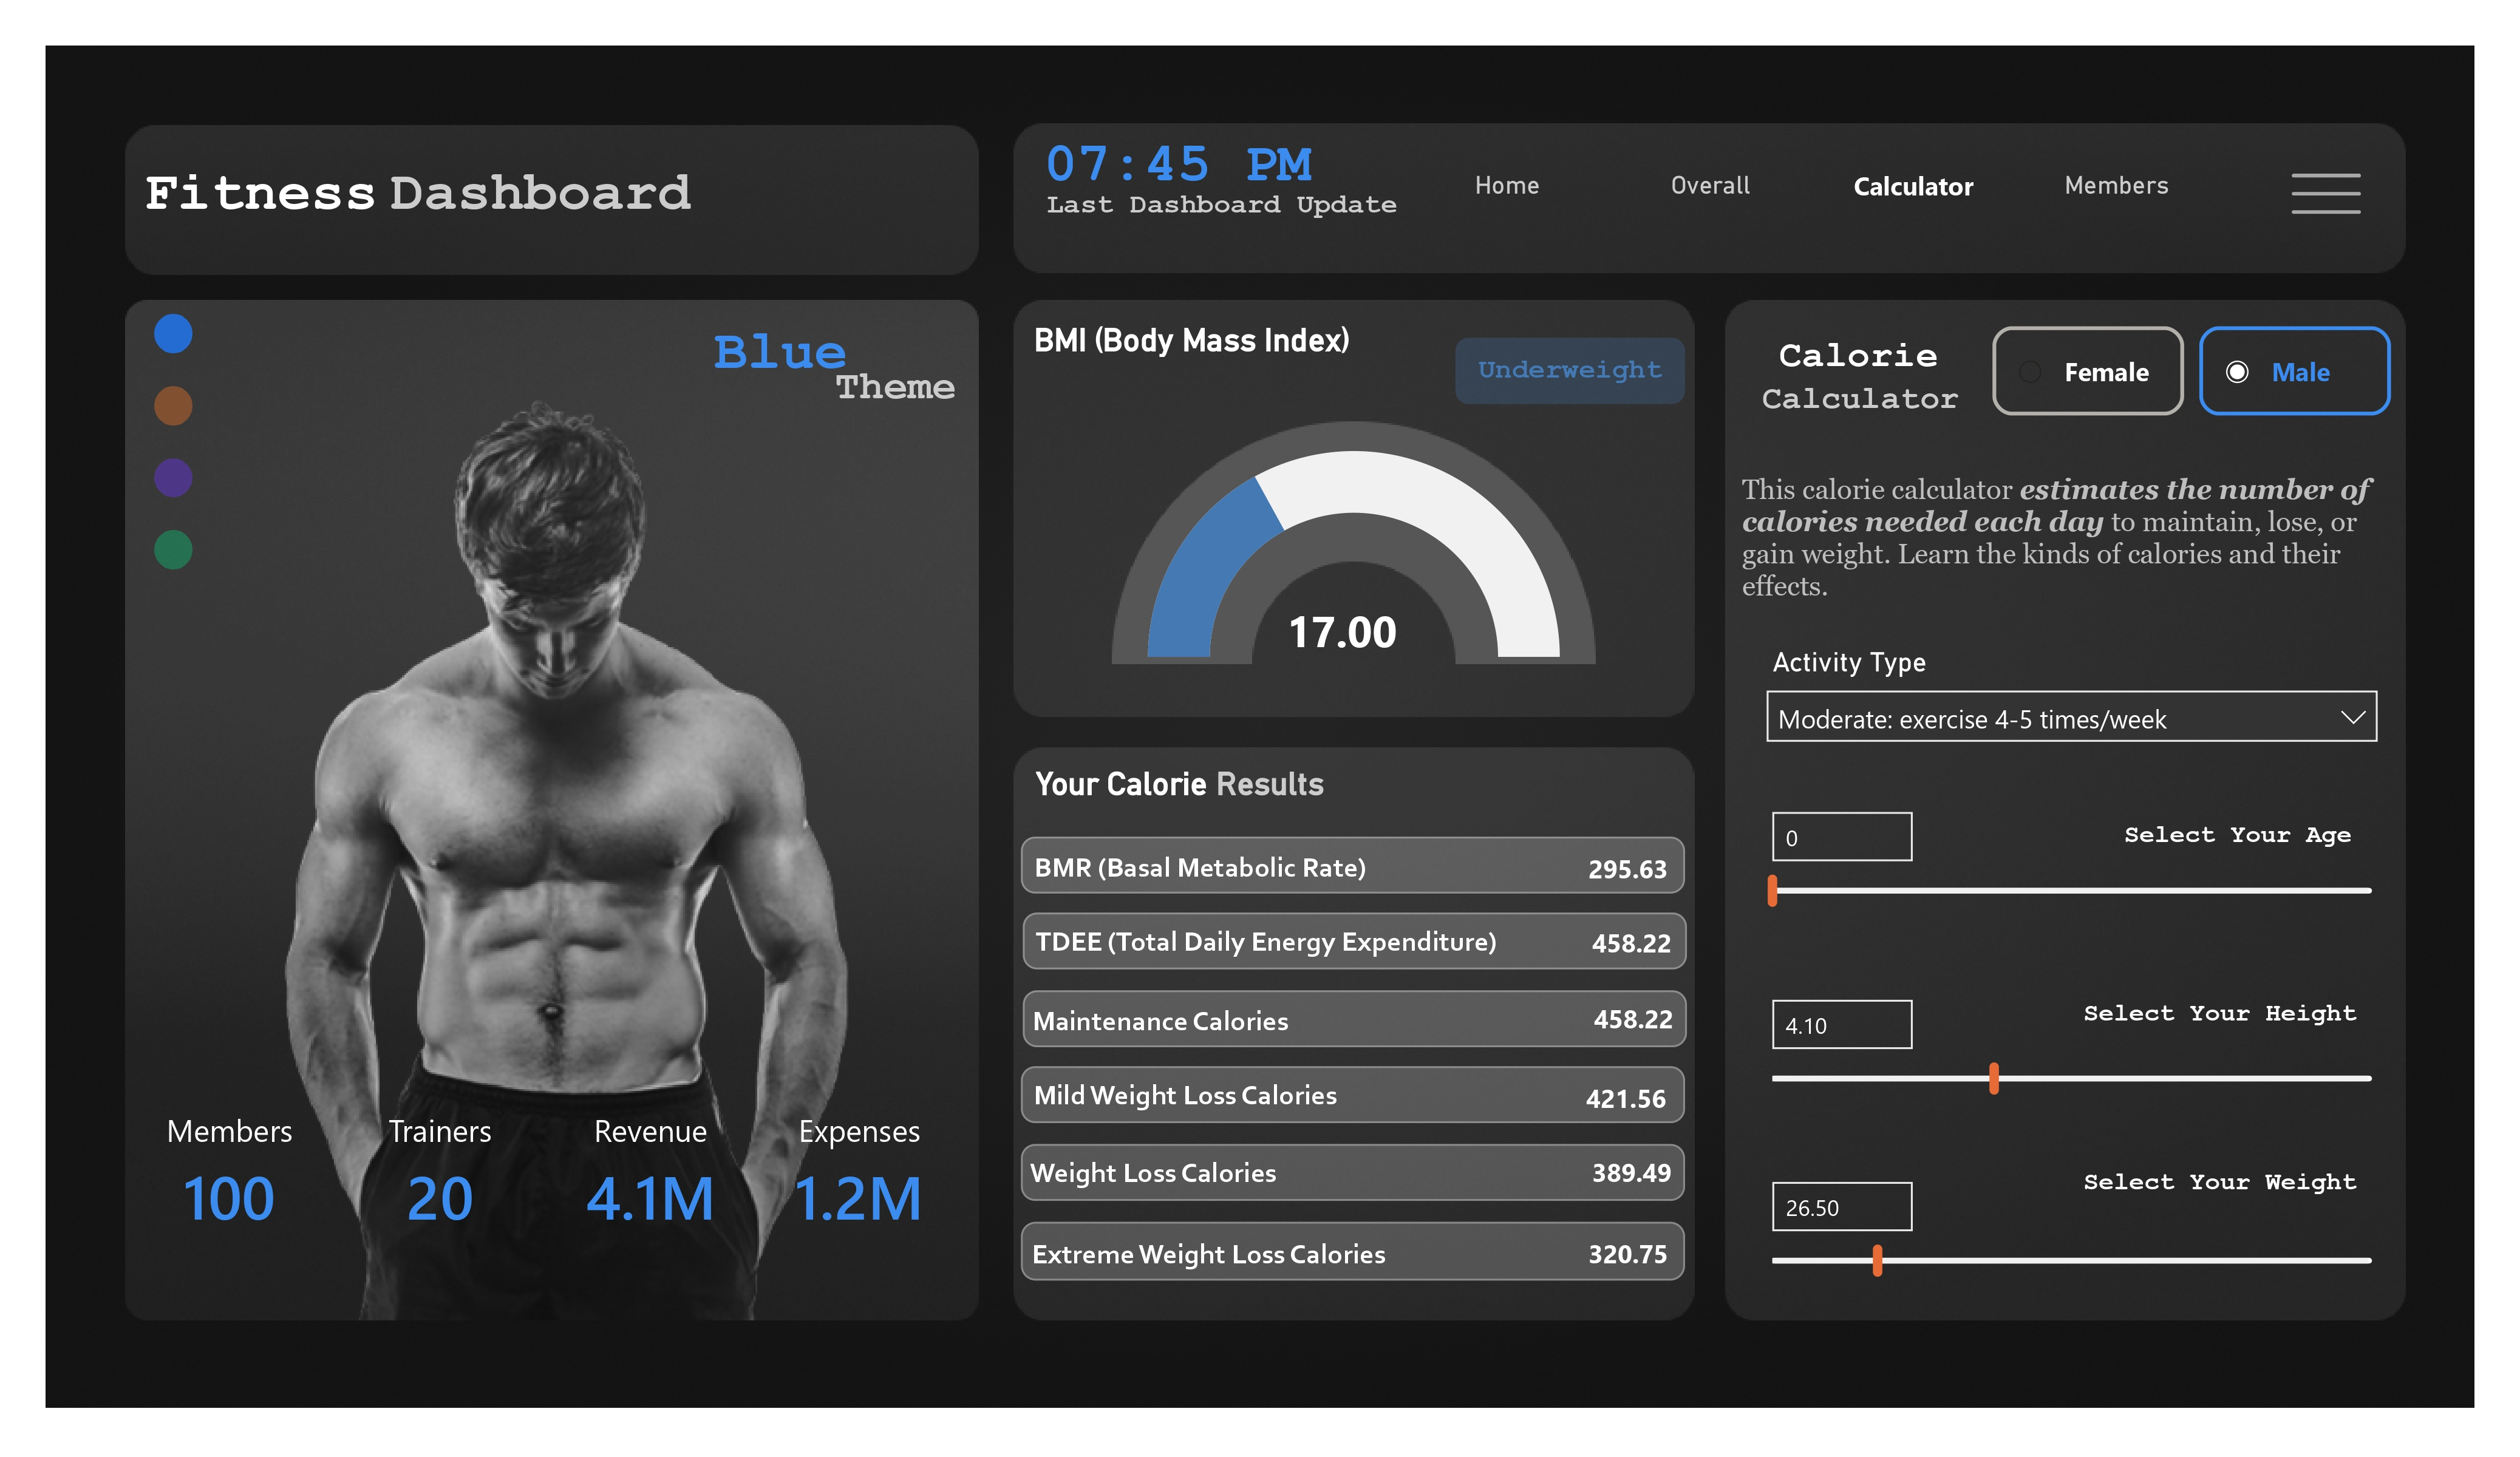

This screenshot's page, from the dashboard's own definition file:
{"tool":"powerbi","page":{"name":"Calculator","canvas":[1280,720],"ordinal":2},"visuals":[{"type":"slicer","fields":{"Values":["Age_Slider.Age_Slider"]},"box":[897.1,394.5,342,90.7],"z":0},{"type":"slicer","fields":{"Values":["Height_Slider.Height_Slider"]},"box":[897.1,493.1,342,90.7],"z":1000},{"type":"slicer","fields":{"Values":["Weight_Slider.Weight_Slider"]},"box":[897.1,589.1,342,90],"z":2000},{"type":"slicer","fields":{"Values":["Slider_Activity.Category"]},"box":[897.1,311.8,342,82.7],"z":3000},{"type":"advancedSlicerVisual","fields":{"Values":["Slider_Gender.Gender"]},"box":[1021.2,143.2,221.1,57.3],"z":4000},{"type":"shape","box":[46.1,60,135.2,35],"z":5000},{"type":"shape","box":[176.5,60,168.6,35],"z":6000},{"type":"shape","box":[888.1,146.5,135.2,35],"z":7000},{"type":"shape","box":[872.1,168.7,168.6,35],"z":8000},{"type":"textbox","box":[889.2,219.5,356.3,90.7],"z":9000},{"type":"gauge","fields":{"Y":["_Measures.BMI"]},"box":[575.8,198.8,227.5,138.4],"z":10000},{"type":"cardVisual","fields":{"Data":["_Measures.BMI"]},"box":[625.1,268.8,135.2,74.8],"z":11000},{"type":"shape","box":[1088,399.2,135.2,35],"z":12000},{"type":"shape","box":[1068.9,493.1,154.3,35],"z":13000},{"type":"shape","box":[1068.9,583.8,154.3,31.8],"z":14000},{"type":"shape","box":[507.4,136.8,194.1,35],"z":15000},{"type":"shape","box":[742.8,154.3,120.9,35],"z":16000},{"type":"shape","box":[499.5,370.6,135.2,35],"z":17000},{"type":"shape","box":[561.5,370.6,168.6,35],"z":18000},{"type":"shape","box":[496.3,418.3,224.3,30.2],"z":19000},{"type":"cardVisual","fields":{"Data":["_Measures.BMR"]},"box":[784.2,404,114.5,55.7],"z":20000},{"type":"shape","box":[513.8,416.7,349.9,30.2],"z":21000},{"type":"shape","box":[520.1,458.1,264,28.6],"z":22000},{"type":"cardVisual","fields":{"Data":["_Measures.TDEE"]},"box":[785.8,443.8,112.9,55.7],"z":23000},{"type":"shape","box":[515.4,456.5,349.9,30.2],"z":24000},{"type":"shape","box":[512.2,499.5,151.1,30.2],"z":25000},{"type":"cardVisual","fields":{"Data":["_Measures.Maintain Calories"]},"box":[787.4,483.5,111.3,55.7],"z":26000},{"type":"shape","box":[515.4,497.9,349.9,30.2],"z":27000},{"type":"shape","box":[518.5,539.2,208.4,28.6],"z":28000},{"type":"cardVisual","fields":{"Data":["_Measures.Mild Weight Loss Calories"]},"box":[782.6,524.9,111.3,55.7],"z":29000},{"type":"shape","box":[513.8,537.6,349.9,30.2],"z":30000},{"type":"shape","box":[516.9,579,190.9,30.2],"z":31000},{"type":"cardVisual","fields":{"Data":["_Measures.Weight Loss Calories"]},"box":[785.8,564.7,112.9,55.7],"z":32000},{"type":"shape","box":[513.8,579,349.9,30.2],"z":33000},{"type":"shape","box":[501,621.9,224.3,30.2],"z":34000},{"type":"cardVisual","fields":{"Data":["_Measures.Extreme Weight Loss Calories"]},"box":[784.2,607.6,111.3,55.7],"z":35000},{"type":"shape","box":[513.8,620.3,349.9,30.2],"z":36000},{"type":"cardVisual","fields":{"Data":["Sum(Expenses.Amount)"]},"box":[517.8,557.5,9.4,90.7],"z":37000},{"type":"shape","box":[523.3,44.5,146.3,35],"z":38000},{"type":"shape","box":[523.3,66.8,194.1,35],"z":39000},{"type":"cardVisual","fields":{"Data":["_Measures.Users_Count"]},"box":[32.1,548,130,90.7],"z":40000},{"type":"cardVisual","fields":{"Data":["Count(Users.Trainer Name)"]},"box":[143,548,130,90.7],"z":41000},{"type":"cardVisual","fields":{"Data":["_Measures.Revenue"]},"box":[253.9,548,130,90.7],"z":42000},{"type":"cardVisual","fields":{"Data":["_Measures.Expenses"]},"box":[364.7,548,128.5,90.7],"z":43000},{"type":"advancedSlicerVisual","fields":{"Values":["ColorCodes.Icon"]},"box":[46.1,132,42.9,157.5],"z":44000},{"type":"shape","box":[313.7,143.6,147.4,34],"z":45000},{"type":"shape","box":[287.2,162.5,194.6,34],"z":46000},{"type":"image","box":[1164.3,55.7,77.9,46.1],"z":47000},{"type":"pageNavigator","box":[717.4,52.5,429.5,42.9],"z":48000}]}

Visuals, with their boxes on the page's 1280x720 design canvas (x1, y1, x2, y2). These are canvas units, not pixel positions in the 2520x1457 screenshot, which may show the page scaled, cropped or inside an application window:
slicer - Age_Slider.Age_Slider: left=897, top=394, right=1239, bottom=485
slicer - Height_Slider.Height_Slider: left=897, top=493, right=1239, bottom=584
slicer - Weight_Slider.Weight_Slider: left=897, top=589, right=1239, bottom=679
slicer - Slider_Activity.Category: left=897, top=312, right=1239, bottom=394
advancedSlicerVisual - Slider_Gender.Gender: left=1021, top=143, right=1242, bottom=200
shape: left=46, top=60, right=181, bottom=95
shape: left=176, top=60, right=345, bottom=95
shape: left=888, top=146, right=1023, bottom=182
shape: left=872, top=169, right=1041, bottom=204
textbox: left=889, top=220, right=1246, bottom=310
gauge - _Measures.BMI: left=576, top=199, right=803, bottom=337
cardVisual - _Measures.BMI: left=625, top=269, right=760, bottom=344
shape: left=1088, top=399, right=1223, bottom=434
shape: left=1069, top=493, right=1223, bottom=528
shape: left=1069, top=584, right=1223, bottom=616
shape: left=507, top=137, right=702, bottom=172
shape: left=743, top=154, right=864, bottom=189
shape: left=500, top=371, right=635, bottom=406
shape: left=562, top=371, right=730, bottom=406
shape: left=496, top=418, right=721, bottom=448
cardVisual - _Measures.BMR: left=784, top=404, right=899, bottom=460
shape: left=514, top=417, right=864, bottom=447
shape: left=520, top=458, right=784, bottom=487
cardVisual - _Measures.TDEE: left=786, top=444, right=899, bottom=500
shape: left=515, top=456, right=865, bottom=487
shape: left=512, top=500, right=663, bottom=530
cardVisual - _Measures.Maintain Calories: left=787, top=484, right=899, bottom=539
shape: left=515, top=498, right=865, bottom=528
shape: left=518, top=539, right=727, bottom=568
cardVisual - _Measures.Mild Weight Loss Calories: left=783, top=525, right=894, bottom=581
shape: left=514, top=538, right=864, bottom=568
shape: left=517, top=579, right=708, bottom=609
cardVisual - _Measures.Weight Loss Calories: left=786, top=565, right=899, bottom=620
shape: left=514, top=579, right=864, bottom=609
shape: left=501, top=622, right=725, bottom=652
cardVisual - _Measures.Extreme Weight Loss Calories: left=784, top=608, right=896, bottom=663
shape: left=514, top=620, right=864, bottom=650
cardVisual - Sum(Expenses.Amount): left=518, top=558, right=527, bottom=648
shape: left=523, top=44, right=670, bottom=80
shape: left=523, top=67, right=717, bottom=102
cardVisual - _Measures.Users_Count: left=32, top=548, right=162, bottom=639
cardVisual - Count(Users.Trainer Name): left=143, top=548, right=273, bottom=639
cardVisual - _Measures.Revenue: left=254, top=548, right=384, bottom=639
cardVisual - _Measures.Expenses: left=365, top=548, right=493, bottom=639
advancedSlicerVisual - ColorCodes.Icon: left=46, top=132, right=89, bottom=290
shape: left=314, top=144, right=461, bottom=178
shape: left=287, top=162, right=482, bottom=196
image: left=1164, top=56, right=1242, bottom=102
pageNavigator: left=717, top=52, right=1147, bottom=95
